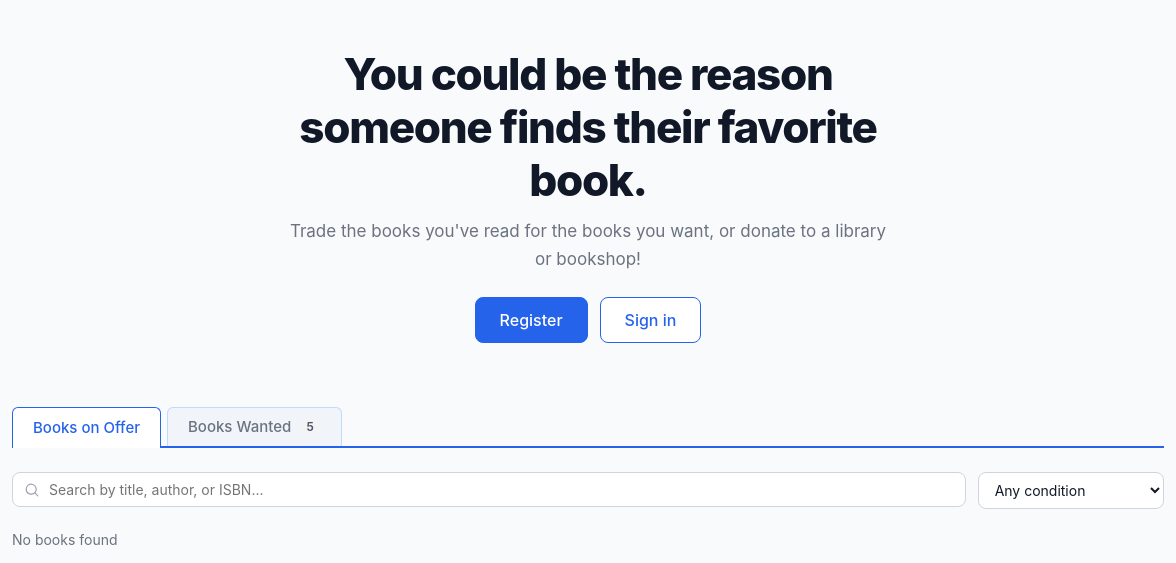
Test: Home page › shows "X books wanted" count in wanted tab
This screenshot has width=1176, height=563.
Click the tab "Books Wanted 5" at [255, 426], box [167, 407, 342, 446]
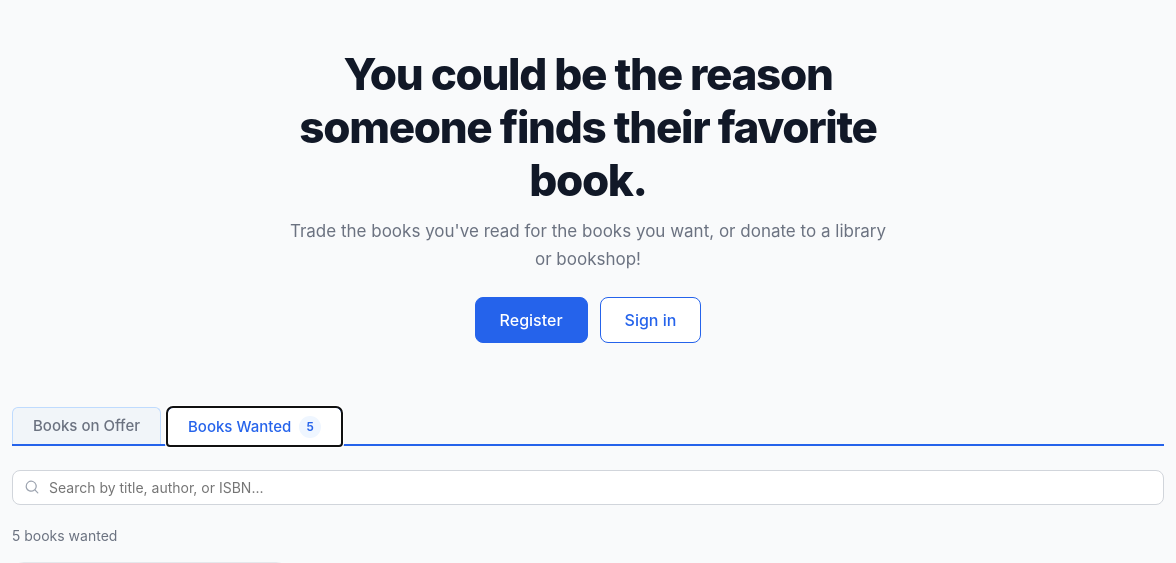
Expected: the text "5 books wanted" is shown, [12, 527, 117, 544]
